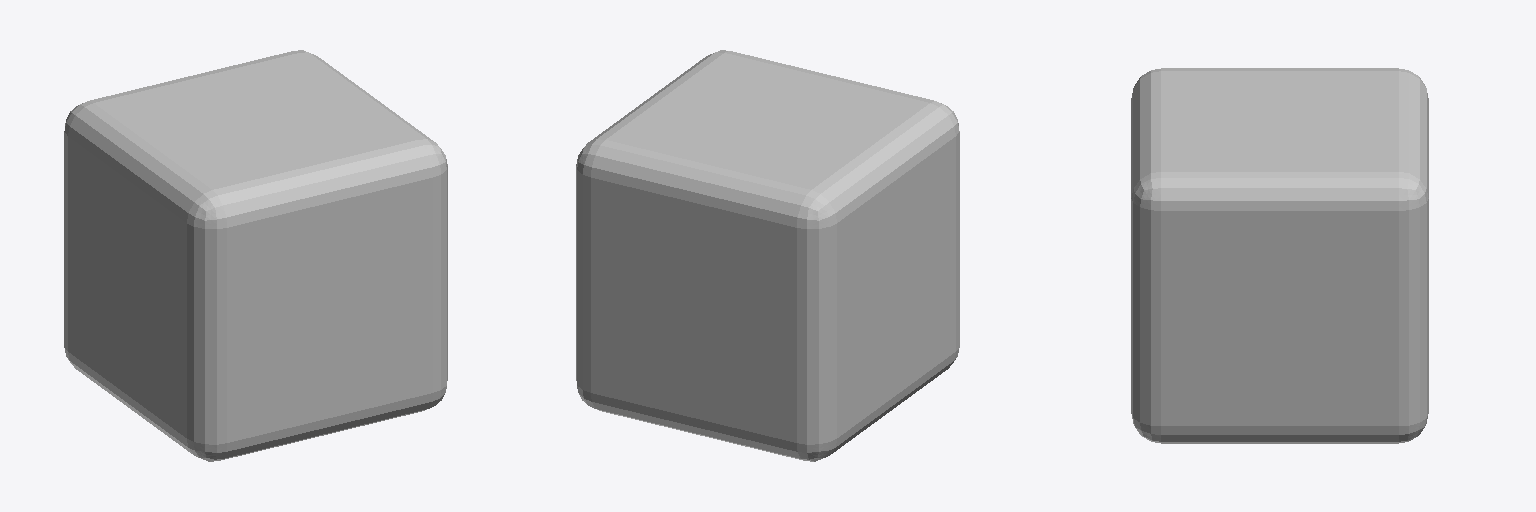
Rendered from Roundcube.obj.
3 renders of one model, left to right at view 1: azimuth 30°, elevation 25°; view 2: azimuth 150°, elevation 25°; view 3: azimuth 270°, elevation 25°, orthographic.
Visible parts, largest first — view 1: Roundcube; view 2: Roundcube; view 3: Roundcube.
Boxes of the visible parts, x1=… form: Roundcube: x1=64, y1=50, x2=447, y2=461; Roundcube: x1=576, y1=50, x2=959, y2=461; Roundcube: x1=1131, y1=68, x2=1428, y2=443.
Size of the model in its own units: 2 by 2 by 2.